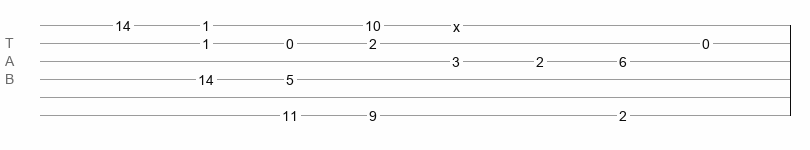0: (286, 36, 294, 46), (702, 36, 710, 46)
1: (202, 36, 210, 46), (202, 18, 210, 28)
10: (365, 18, 381, 28)
11: (282, 108, 298, 118)
14: (115, 18, 131, 28), (198, 72, 214, 82)
2: (369, 36, 377, 46), (536, 54, 544, 64), (619, 108, 627, 118)
3: (452, 54, 460, 64)
5: (286, 72, 294, 82)
6: (619, 54, 627, 64)
9: (369, 108, 377, 118)
x: (453, 19, 460, 27)
